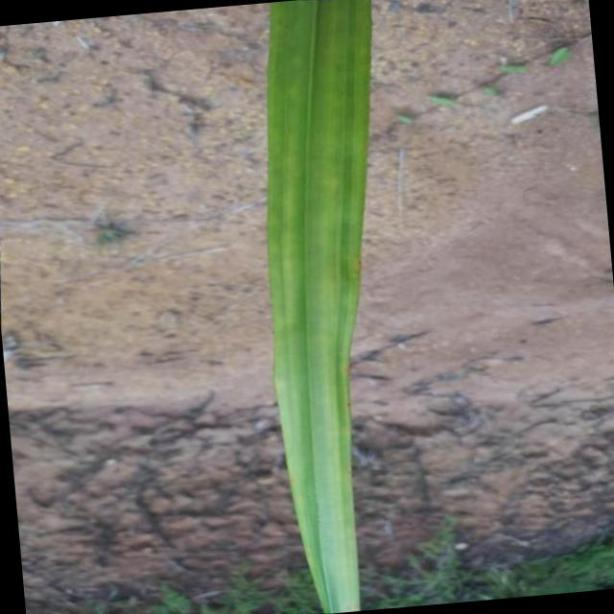nitrogen: (267, 0, 374, 614)
